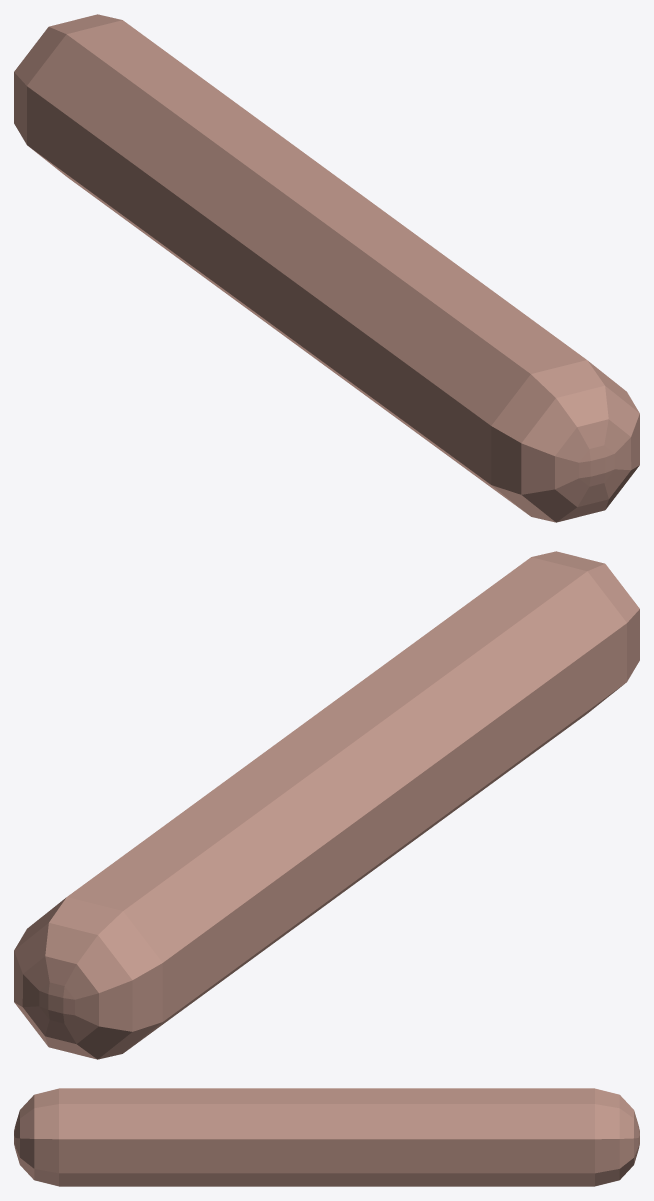
The model's file is Sausage_Raw.glb.
3 renders of one model, top to bottom at view 1: azimuth 30°, elevation 25°; view 2: azimuth 150°, elevation 25°; view 3: azimuth 270°, elevation 25°, orthographic. The views are drawn at different scales.
Visible parts, largest first — view 1: Sausage_Raw; view 2: Sausage_Raw; view 3: Sausage_Raw.
Part boxes in pixels (box(x1,y1,x2,y2)): Sausage_Raw: box(14, 14, 639, 522); Sausage_Raw: box(14, 551, 639, 1059); Sausage_Raw: box(14, 1088, 639, 1186).
Bounding box in the file's own units: 0.2396 × 0.2413 × 1.66.
